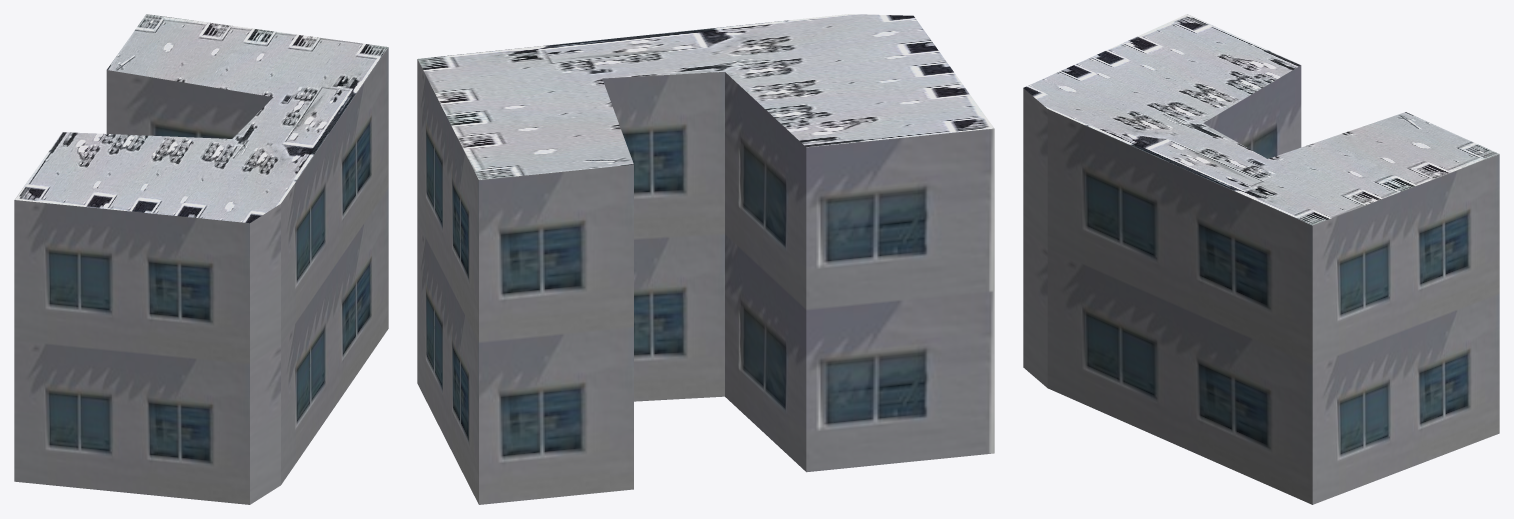
Rendered from ResTex__4091.fbx.
3 views of the same model, side by side, from view 1: azimuth 30°, elevation 25°; view 2: azimuth 150°, elevation 25°; view 3: azimuth 270°, elevation 25° (orthographic). The views are drawn at different scales.
Parts seen in each view (by area): view 1: CityEngineMaterial_10_m, CityEngineMaterial_m; view 2: CityEngineMaterial_10_m, CityEngineMaterial_m; view 3: CityEngineMaterial_10_m, CityEngineMaterial_m.
Part boxes in pixels (left/top/right/bottom): CityEngineMaterial_10_m: left=14, top=47, right=388, bottom=504; CityEngineMaterial_m: left=14, top=14, right=388, bottom=223; CityEngineMaterial_10_m: left=417, top=59, right=994, bottom=504; CityEngineMaterial_m: left=417, top=14, right=994, bottom=179; CityEngineMaterial_10_m: left=1023, top=65, right=1499, bottom=504; CityEngineMaterial_m: left=1023, top=14, right=1499, bottom=225.
Bounding box in the file's own units: 9.75 × 6 × 9.28.
Materials: 2 (2 with a texture image).
